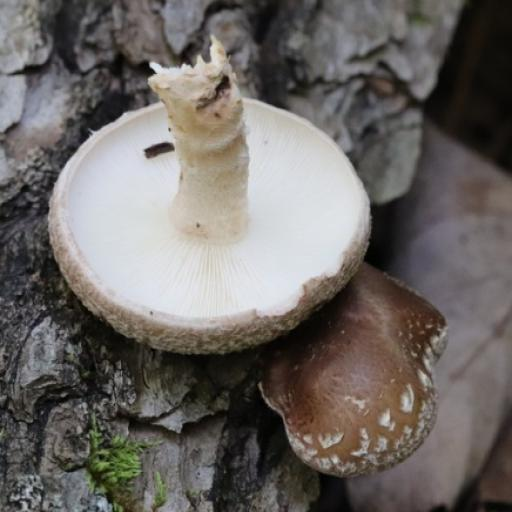Shiitake Mushroom: (13, 29, 512, 512)
